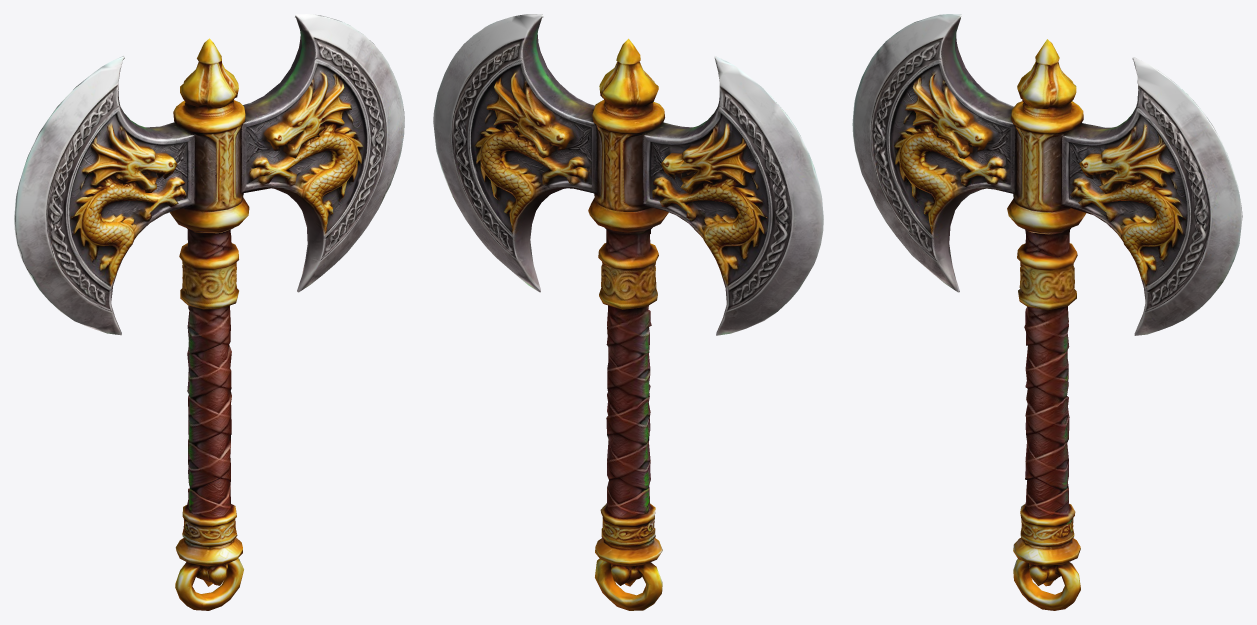
File: kapak-212.glb
3 views of the same model, side by side, from view 1: azimuth 30°, elevation 25°; view 2: azimuth 150°, elevation 25°; view 3: azimuth 330°, elevation 25° (orthographic).
Parts seen in each view (by area): view 1: tripo_node_43cc83a5-043f-4882-93a4-429122330430; view 2: tripo_node_43cc83a5-043f-4882-93a4-429122330430; view 3: tripo_node_43cc83a5-043f-4882-93a4-429122330430.
Boxes of the visible parts, x1,y1,x2,y2 form: tripo_node_43cc83a5-043f-4882-93a4-429122330430: (14,14,404,610); tripo_node_43cc83a5-043f-4882-93a4-429122330430: (433,14,823,610); tripo_node_43cc83a5-043f-4882-93a4-429122330430: (852,14,1242,610).
Size of the model in its own units: 0.697 by 0.9794 by 0.125.
1 material, 1 textured.
